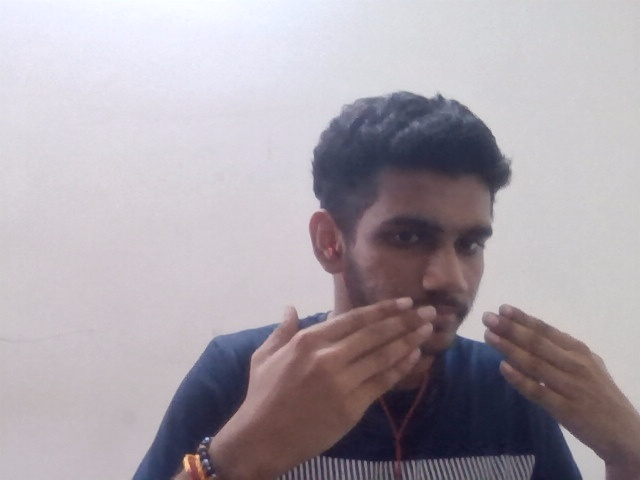thanks: (191, 276, 635, 452)
